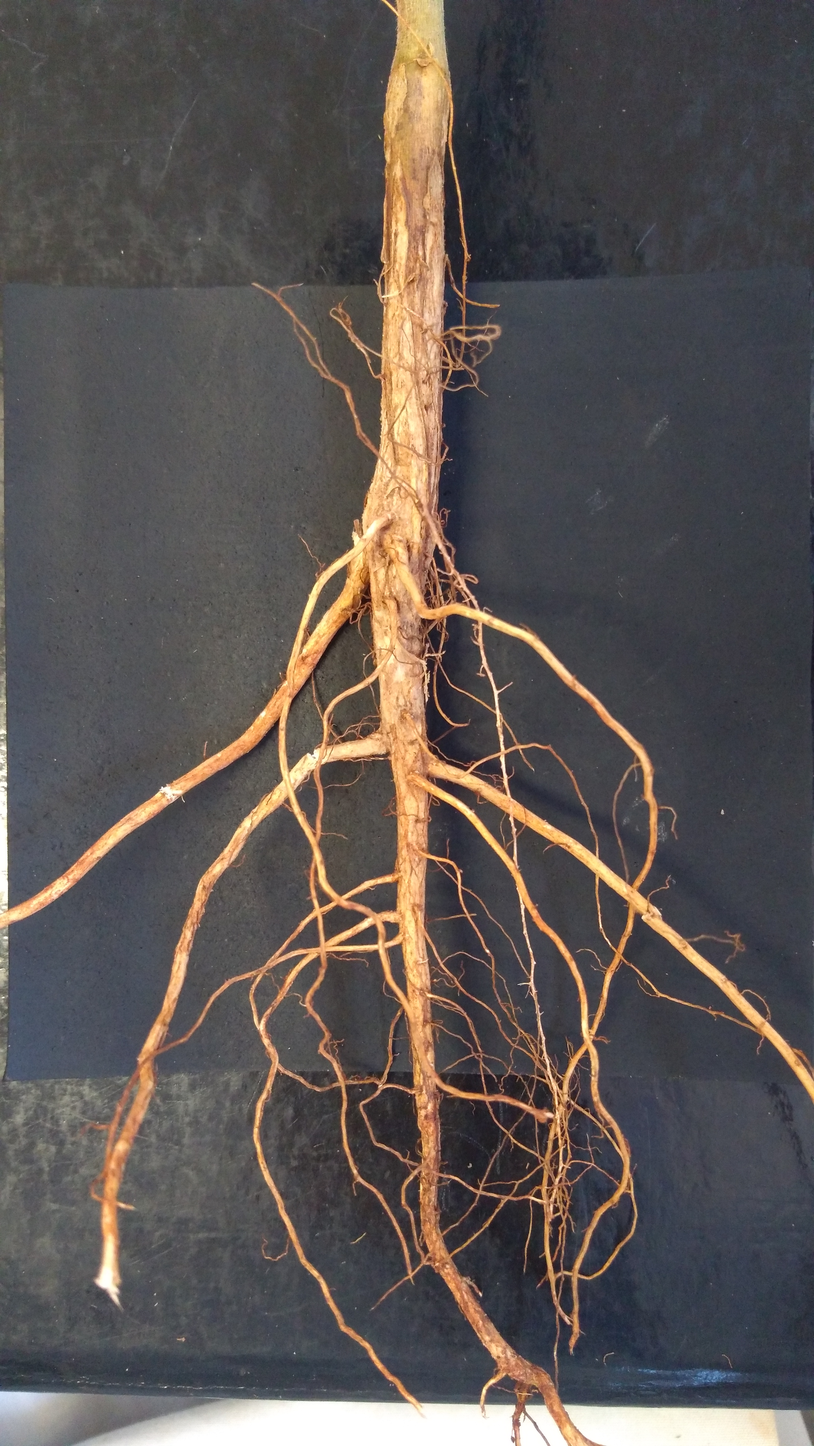nodule: (535, 1106, 549, 1123), (442, 423, 446, 428)
